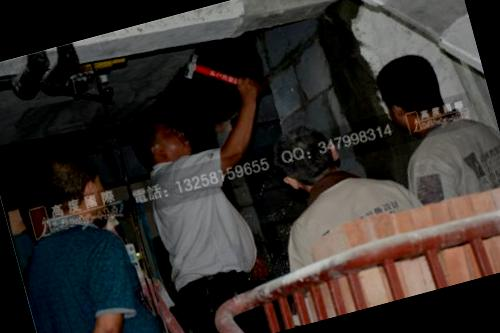no_helmet: (21, 134, 118, 243), (366, 45, 453, 142), (268, 116, 350, 197), (124, 108, 198, 174)
